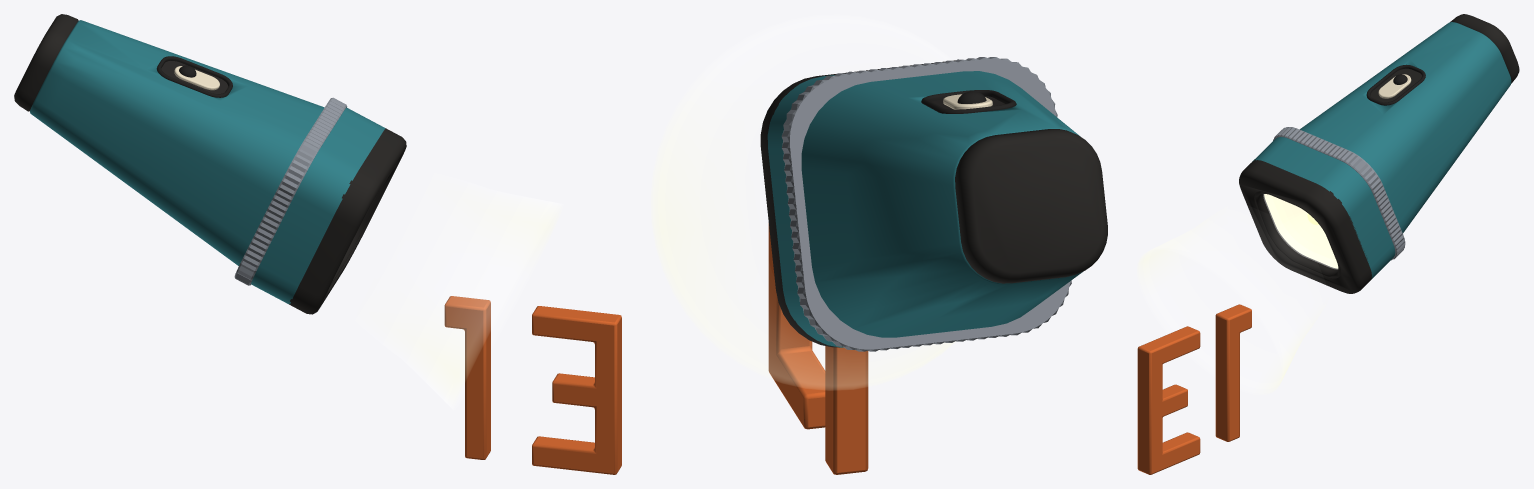
Rendered from flashlight.glb.
3 views of the same model, side by side, from view 1: azimuth 30°, elevation 25°; view 2: azimuth 150°, elevation 25°; view 3: azimuth 270°, elevation 25° (orthographic). The views are drawn at different scales.
Parts seen in each view (by area): view 1: body, beam, num_1, tail_cap, knurl, sw_bezel; view 2: body, beam, tail_cap, knurl, num_1, sw_bezel; view 3: body, beam, tail_cap, num_1, glass, knurl, reflector, sw_bezel.
Part boxes in pixels (left/top/right/bottom): body: left=30, top=20, right=385, bottom=304; beam: left=383, top=183, right=562, bottom=409; num_1: left=444, top=296, right=621, bottom=474; tail_cap: left=14, top=14, right=406, bottom=314; knurl: left=234, top=97, right=347, bottom=285; sw_bezel: left=156, top=56, right=232, bottom=97; body: left=767, top=71, right=1082, bottom=347; beam: left=653, top=16, right=954, bottom=389; tail_cap: left=760, top=60, right=1107, bottom=347; knurl: left=781, top=57, right=1071, bottom=351; num_1: left=768, top=223, right=868, bottom=474; sw_bezel: left=921, top=90, right=1016, bottom=113; body: left=1252, top=22, right=1511, bottom=279; beam: left=1139, top=219, right=1312, bottom=393; tail_cap: left=1239, top=14, right=1519, bottom=293; num_1: left=1137, top=304, right=1251, bottom=474; glass: left=1263, top=194, right=1338, bottom=269; knurl: left=1273, top=127, right=1405, bottom=260; reflector: left=1264, top=194, right=1337, bottom=268; sw_bezel: left=1366, top=64, right=1425, bottom=105.
Size of the model in its own units: 0.2355 by 0.2117 by 0.2355.
Materials: 10 (1 with a texture image).
